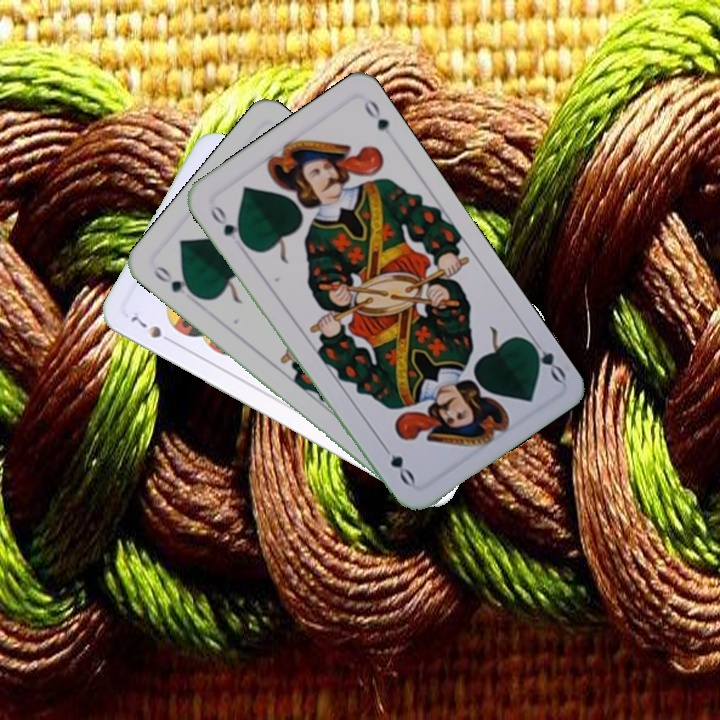GO: (523, 331, 569, 385), (206, 200, 249, 249), (149, 261, 201, 300)
S7: (127, 312, 178, 347)
